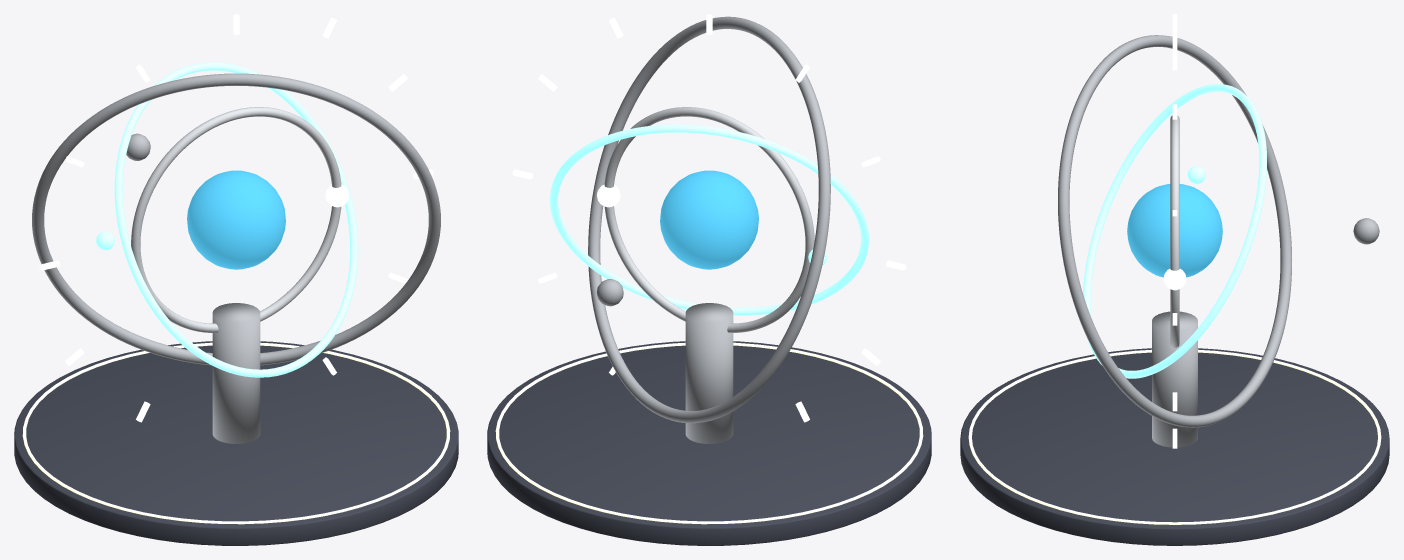
File: timeline.glb
3 renders of one model, left to right at view 1: azimuth 30°, elevation 25°; view 2: azimuth 150°, elevation 25°; view 3: azimuth 270°, elevation 25°, orthographic. The views are drawn at different scales.
Parts seen in each view (by area): view 1: timeline_Graphite, spin_RingC, timeline_Glass, timeline_Steel, spin_RingB, spin_RingA, timeline_Amber, timeline_WhiteLight; view 2: timeline_Graphite, spin_RingC, timeline_Glass, timeline_Steel, spin_RingB, spin_RingA, timeline_Amber, timeline_WhiteLight; view 3: timeline_Graphite, spin_RingC, timeline_Glass, spin_RingB, timeline_Steel, timeline_Amber, spin_RingA, timeline_WhiteLight.
Part boxes in pixels (x1,y1,x2,y2): timeline_Graphite: [14, 341, 458, 545]; spin_RingC: [32, 73, 440, 365]; timeline_Glass: [187, 170, 285, 269]; timeline_Steel: [126, 133, 260, 443]; spin_RingB: [114, 62, 358, 377]; spin_RingA: [131, 107, 341, 332]; timeline_Amber: [22, 342, 450, 524]; timeline_WhiteLight: [39, 14, 433, 422]; timeline_Graphite: [487, 341, 931, 545]; spin_RingC: [588, 16, 830, 423]; timeline_Glass: [660, 170, 758, 269]; timeline_Steel: [596, 279, 733, 443]; spin_RingB: [550, 124, 868, 315]; spin_RingA: [604, 107, 814, 332]; timeline_Amber: [495, 342, 923, 524]; timeline_WhiteLight: [512, 14, 906, 422]; timeline_Graphite: [960, 348, 1389, 545]; spin_RingC: [1058, 35, 1291, 427]; timeline_Glass: [1127, 184, 1222, 277]; spin_RingB: [1083, 84, 1266, 378]; timeline_Steel: [1152, 218, 1379, 447]; timeline_Amber: [968, 349, 1381, 524]; spin_RingA: [1170, 115, 1179, 347]; timeline_WhiteLight: [1172, 14, 1177, 448].
Size of the model in its own units: 13.2 by 14.1 by 13.
